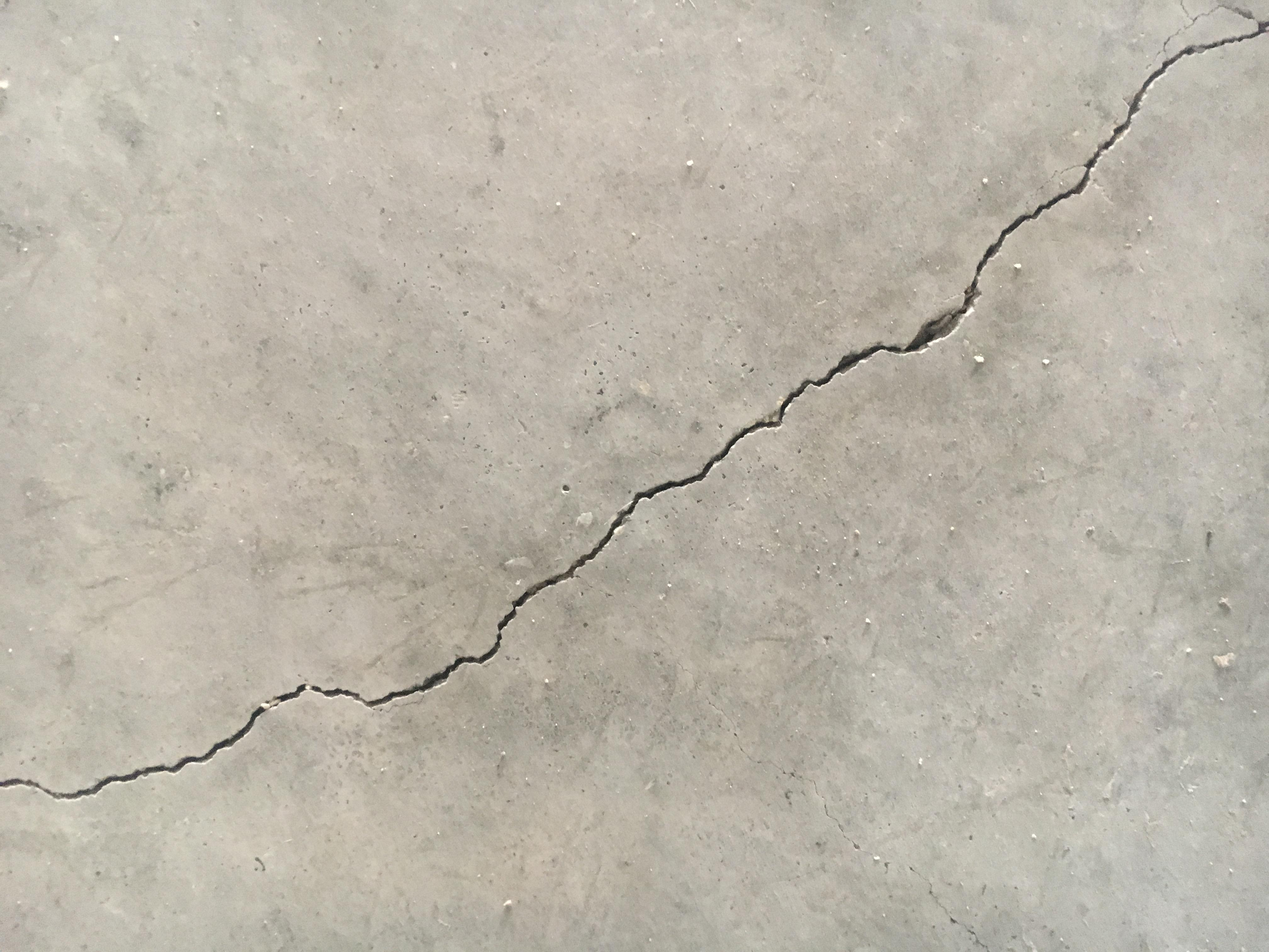Diagonal Crack: (5, 4, 1264, 806)
